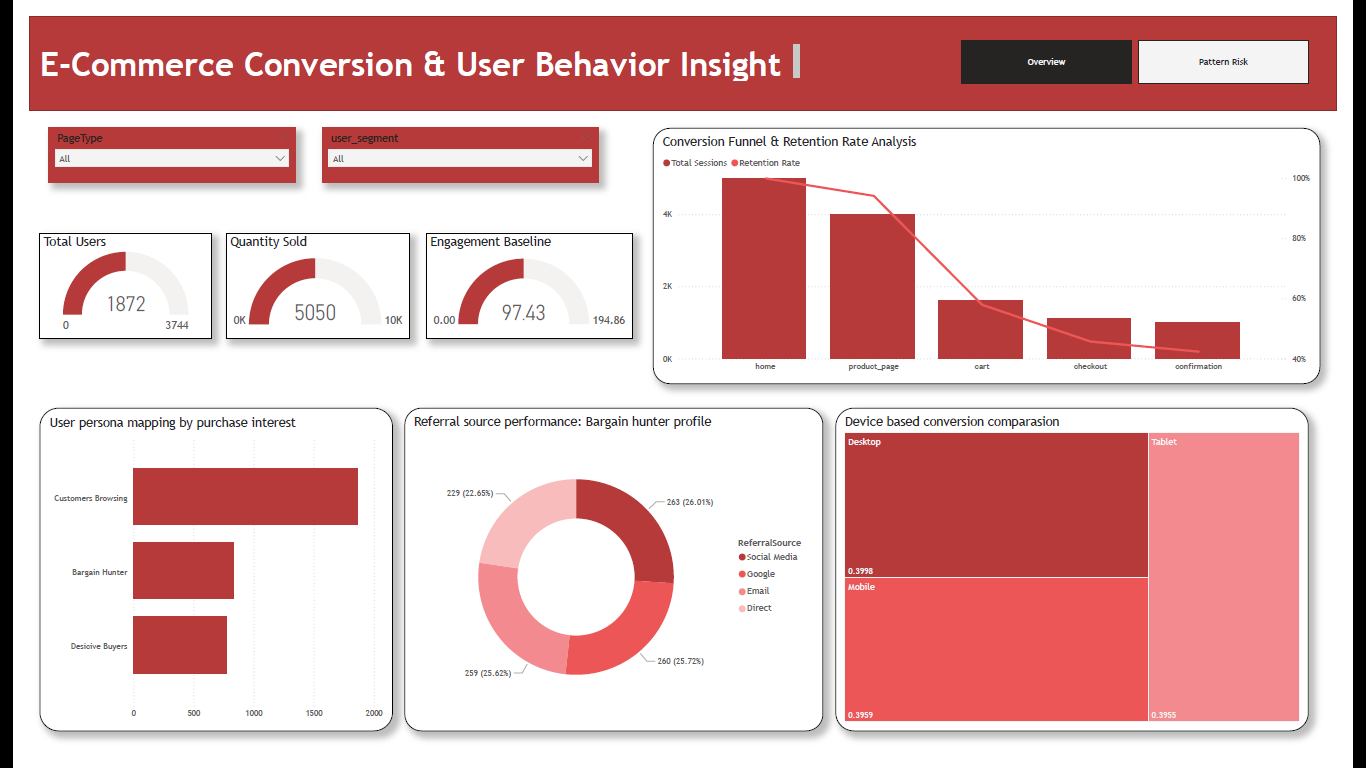

This screenshot's page, from the dashboard's own definition file:
{"tool":"powerbi","page":{"name":"Overview","canvas":[1920,1080],"ordinal":0},"visuals":[{"type":"lineClusteredColumnComboChart","title":"Conversion Funnel & Retention Rate Analysis","fields":{"Category":["public customer_journey_clean.PageType"],"Y":["CountNonNull(public customer_journey_clean.SessionID)"],"Y2":["public customer_journey_clean.Step Conversion %"]},"box":[915.8,164.2,980.6,375.8],"z":0},{"type":"clusteredBarChart","title":"User persona mapping by purchase interest","fields":{"Category":["public customer_journey_clean.user_segment"],"Y":["public customer_journey_clean.Total_Users"]},"box":[15.1,574.6,518.4,475.2],"z":1000},{"type":"donutChart","title":"Referral source performance: Bargain hunter profile","fields":{"Category":["public customer_journey_clean.ReferralSource"],"Series":["public customer_journey_clean.user_segment"],"Y":["public customer_journey_clean.Total_Users"]},"box":[550.8,574.6,615.6,475.2],"z":2000},{"type":"treemap","title":"Device based conversion comparasion","fields":{"Group":["public customer_journey_clean.DeviceType"],"Values":["Avg(public customer_journey_clean.Purchased)"]},"box":[1183.7,574.6,695.5,475.2],"z":3000},{"type":"shape","box":[0,0,1920.2,138.2],"z":4000},{"type":"textbox","box":[10.8,36.7,1125.4,62.6],"z":5000},{"type":"gauge","fields":{"Y":["Avg(public customer_journey_clean.TimeOnPage_seconds)"]},"box":[583.2,317.5,302.4,155.5],"z":6000},{"type":"gauge","fields":{"Y":["public customer_journey_clean.Total_Users"]},"box":[15.1,317.5,252.7,155.5],"z":7000},{"type":"gauge","fields":{"Y":["Sum(public customer_journey_clean.Purchased)"]},"box":[289.4,317.5,270,155.5],"z":8000},{"type":"slicer","fields":{"Values":["public customer_journey_clean.PageType"]},"box":[28.1,164.2,362.9,79.9],"z":9000},{"type":"slicer","fields":{"Values":["public customer_journey_clean.user_segment"]},"box":[429.8,164.2,406.1,79.9],"z":10000},{"type":"pageNavigator","box":[1369.4,34.6,509.8,64.8],"z":11000}]}

Visuals, with their boxes in screenshot pixels (x1, y1, x2, y2), scaled from the page's 1920x1080 canvas onto the 1366x768 screenshot:
"Conversion Funnel & Retention Rate Analysis" lineClusteredColumnComboChart: rect(652, 117, 1349, 384)
"User persona mapping by purchase interest" clusteredBarChart: rect(11, 409, 380, 747)
"Referral source performance: Bargain hunter profile" donutChart: rect(392, 409, 830, 747)
"Device based conversion comparasion" treemap: rect(842, 409, 1337, 747)
shape: rect(0, 0, 1365, 98)
textbox: rect(8, 26, 808, 71)
gauge - Avg(public customer_journey_clean.TimeOnPage_seconds): rect(415, 226, 630, 336)
gauge - public customer_journey_clean.Total_Users: rect(11, 226, 191, 336)
gauge - Sum(public customer_journey_clean.Purchased): rect(206, 226, 398, 336)
slicer - public customer_journey_clean.PageType: rect(20, 117, 278, 174)
slicer - public customer_journey_clean.user_segment: rect(306, 117, 595, 174)
pageNavigator: rect(974, 25, 1337, 71)
